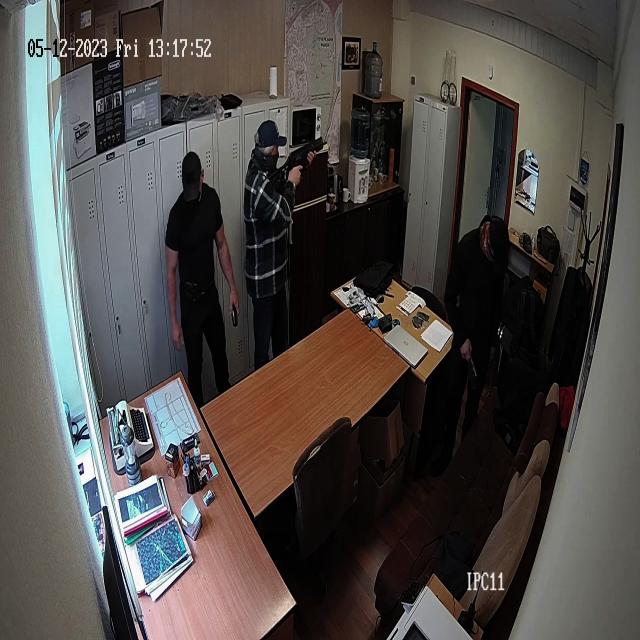gun: (243, 118, 329, 372), (434, 214, 512, 475), (164, 152, 242, 410), (268, 135, 328, 186)
